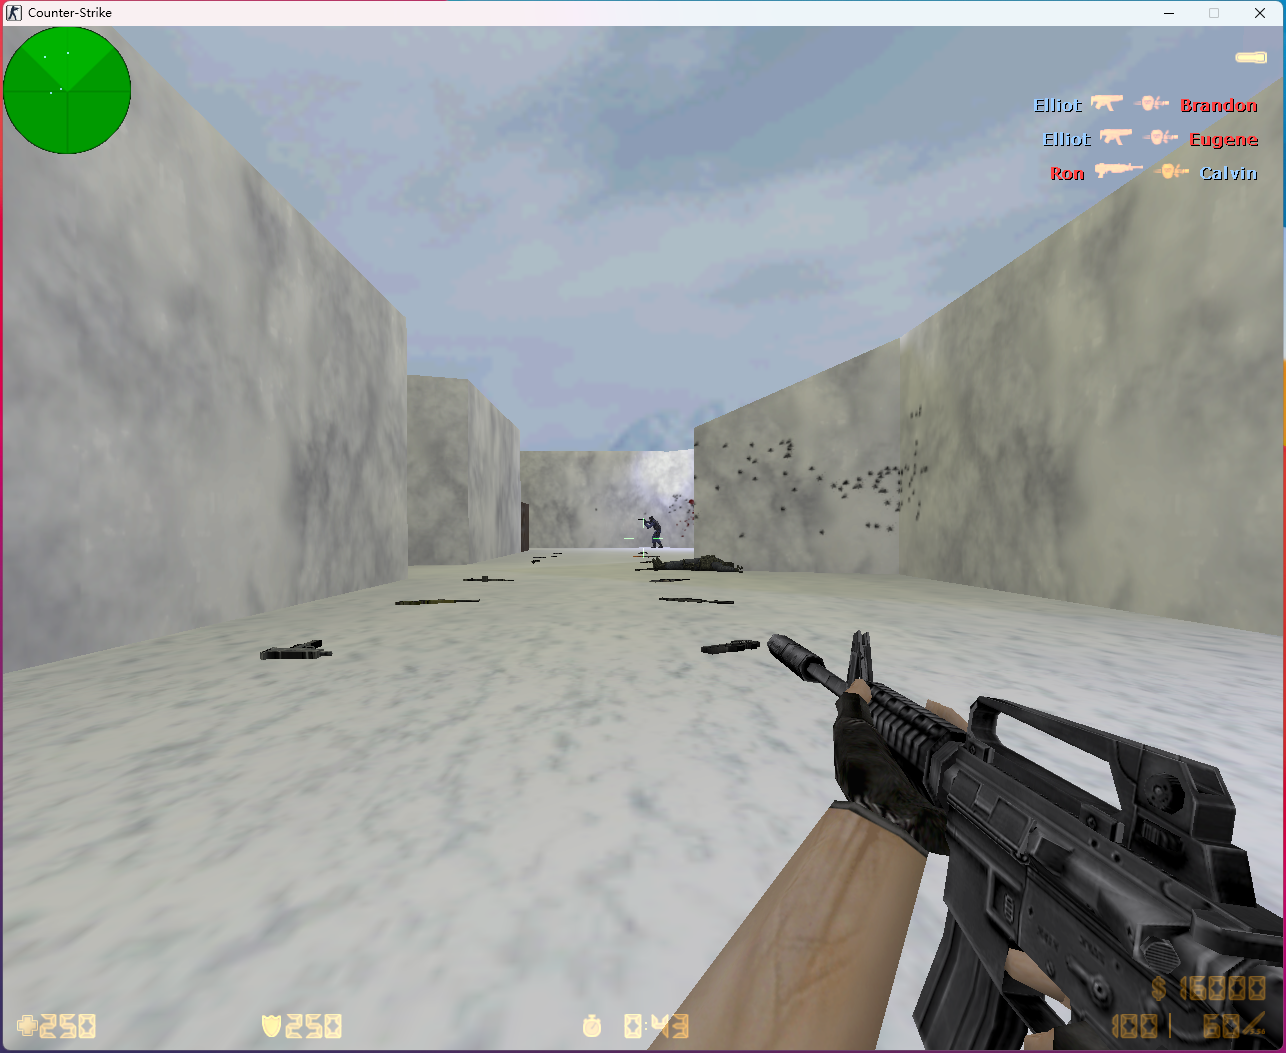C: (640, 514, 665, 548)
dead: (653, 555, 750, 572)
weapon: (257, 636, 333, 662), (392, 592, 479, 613), (693, 636, 763, 657), (653, 595, 741, 608), (461, 572, 513, 585), (650, 575, 690, 586)
